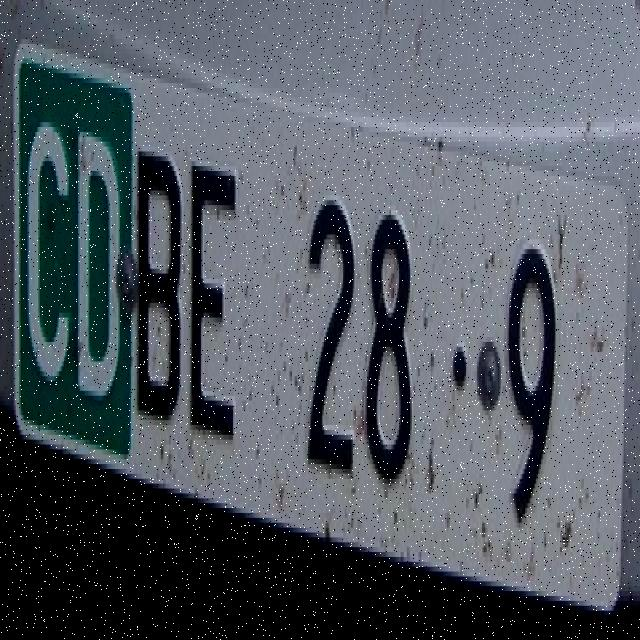licenseplate: (12, 8, 629, 608)
